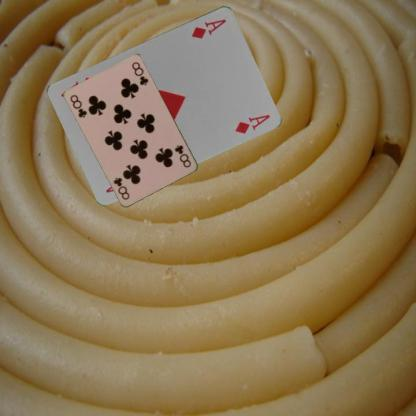8c: (172, 142, 192, 169), (68, 92, 88, 119)
Ad: (188, 16, 228, 40)
